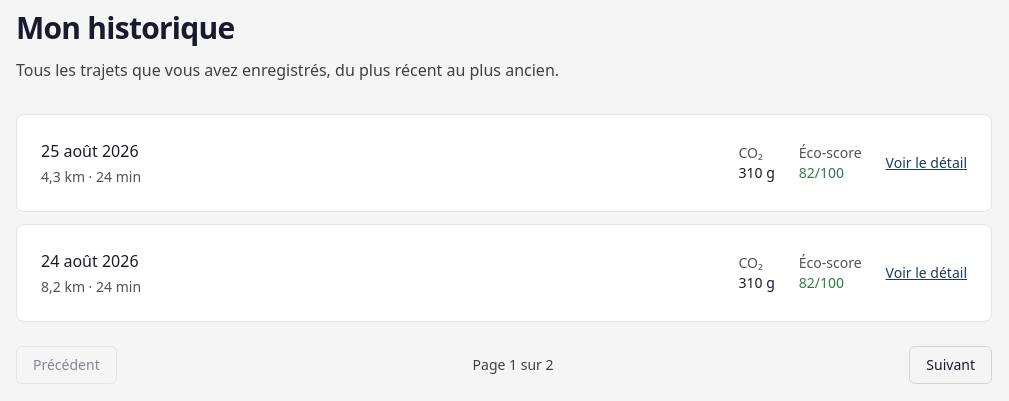
Test: /historique › erreurs › n'affiche PAS une liste périmée sous le message d'erreur
Check: the text "Page 1 sur 2" is shown, box 473,355 -> 554,375
Click the button "Suivant" at (951, 365), box 909,346 -> 992,384
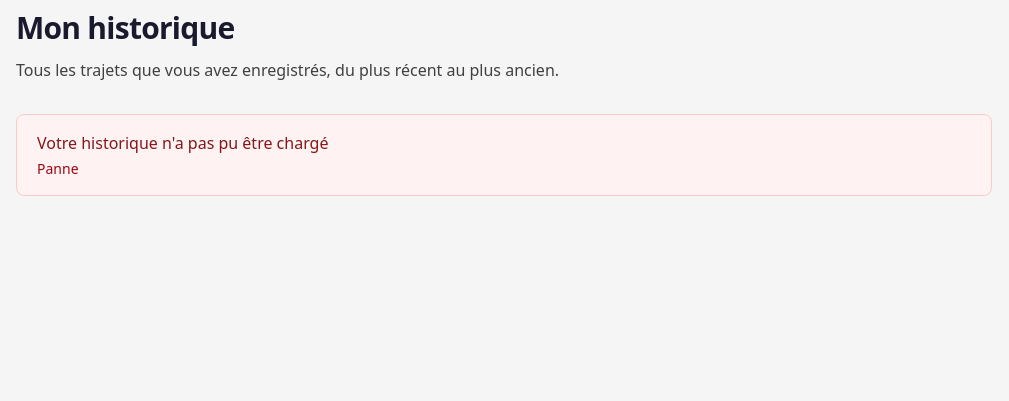
Check: the message "Votre historique n'a pas pu être chargé Panne" is shown, box 16,114 -> 992,196
Check: the text "25 août 2026" is gone
